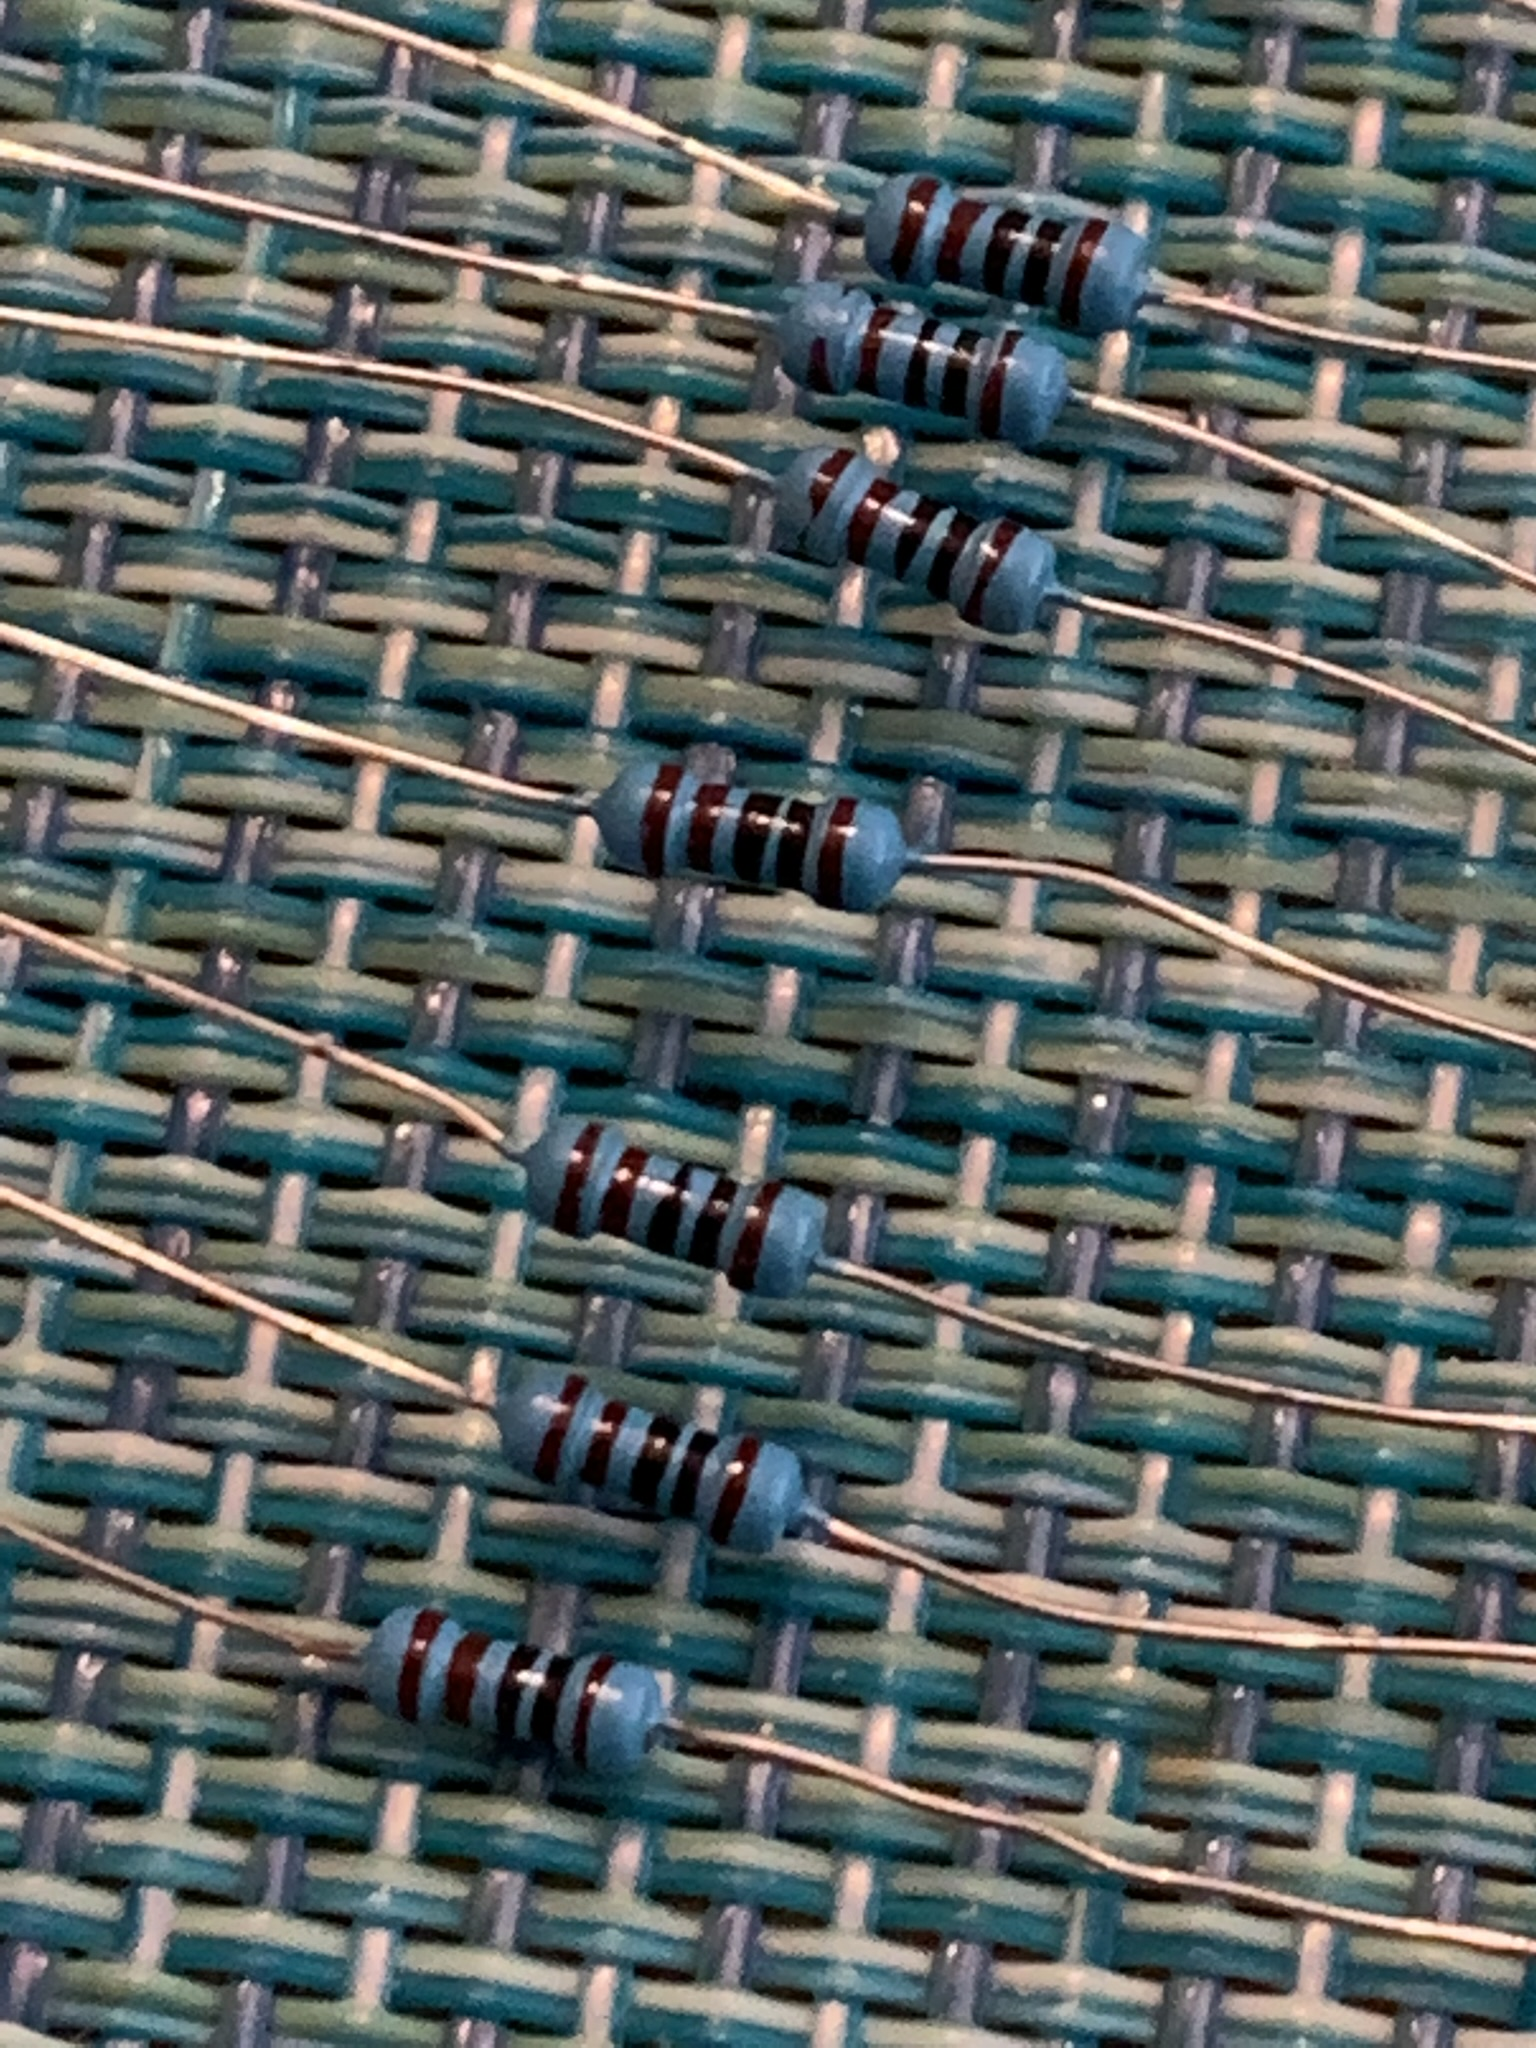resistor_thd: (523, 1114, 828, 1301), (497, 1371, 802, 1546), (781, 447, 1058, 632), (366, 1605, 665, 1772), (776, 277, 1071, 445), (592, 758, 908, 914), (860, 169, 1154, 337)
